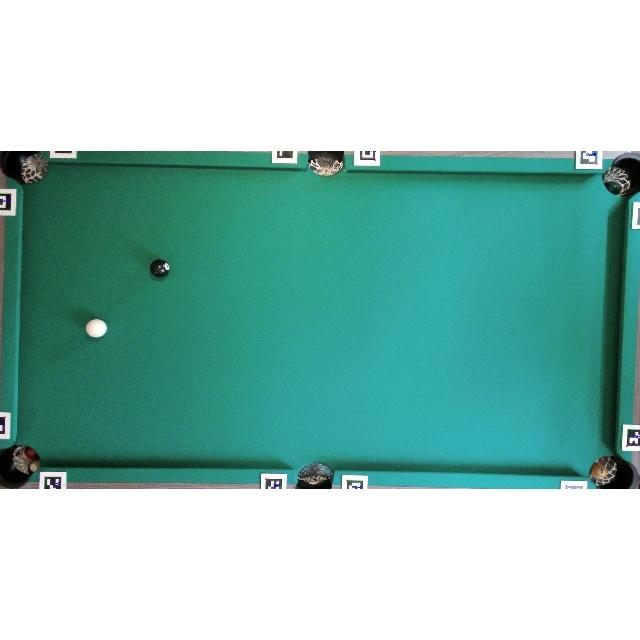cue ball: (85, 318, 108, 339)
other: (150, 259, 170, 278)
